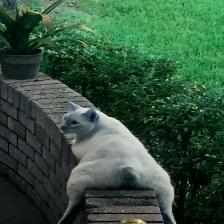kedo: (58, 100, 177, 224)
